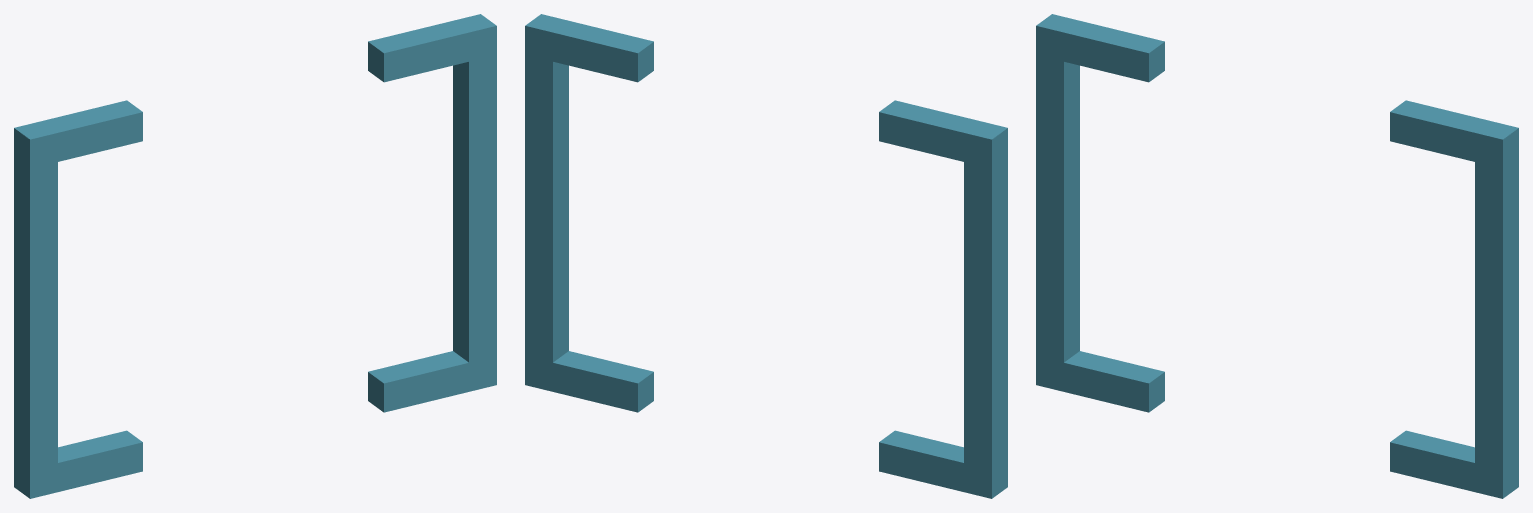
The model's file is indicator.fbx.
3 views of the same model, side by side, from view 1: azimuth 30°, elevation 25°; view 2: azimuth 150°, elevation 25°; view 3: azimuth 330°, elevation 25° (orthographic).
Visible parts, largest first — view 1: polySurface1; view 2: polySurface1; view 3: polySurface1.
Part boxes in pixels (x1,y1,x2,y2): polySurface1: (14,14,496,498); polySurface1: (525,14,1007,498); polySurface1: (1036,14,1518,498).
Bounding box in the file's own units: 9.36 × 6.88 × 0.5584.
